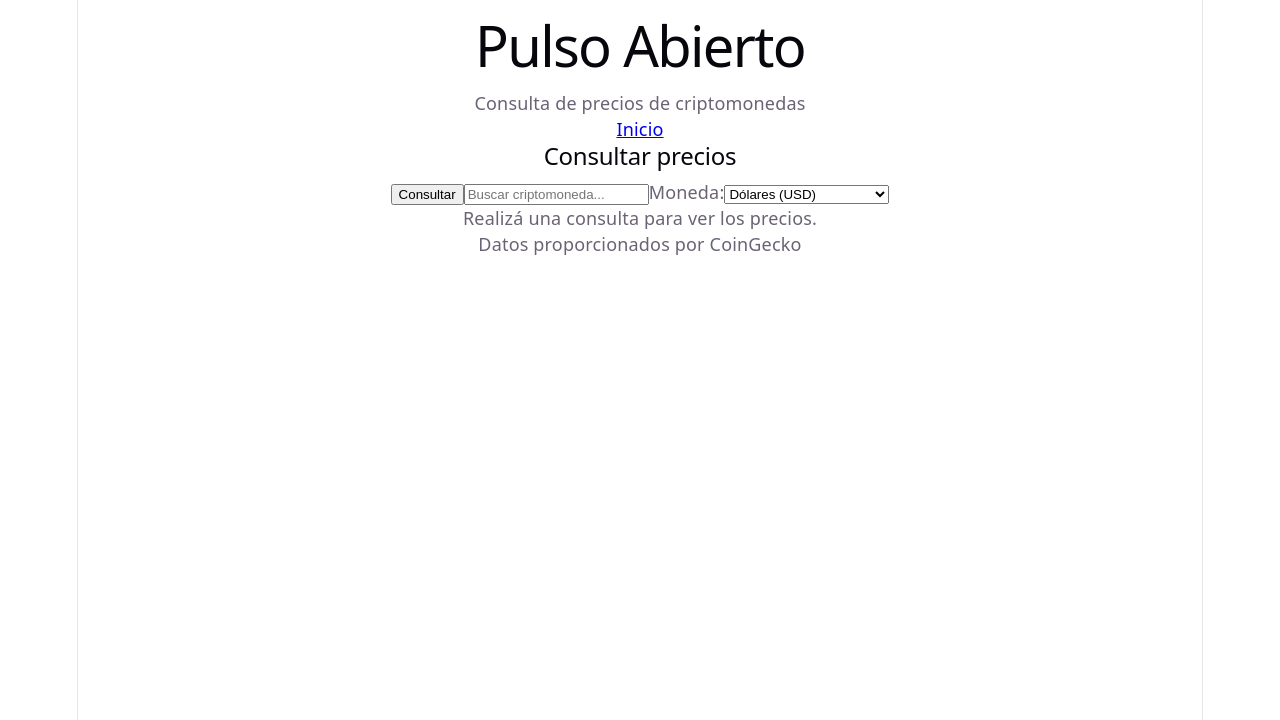
Scenario: Consulta de criptomonedas › muestra un error cuando falla la consulta
Type "bit" into the field with placeholder "Buscar criptomoneda..." at {"x": 556, "y": 194}, box [464, 184, 649, 205]
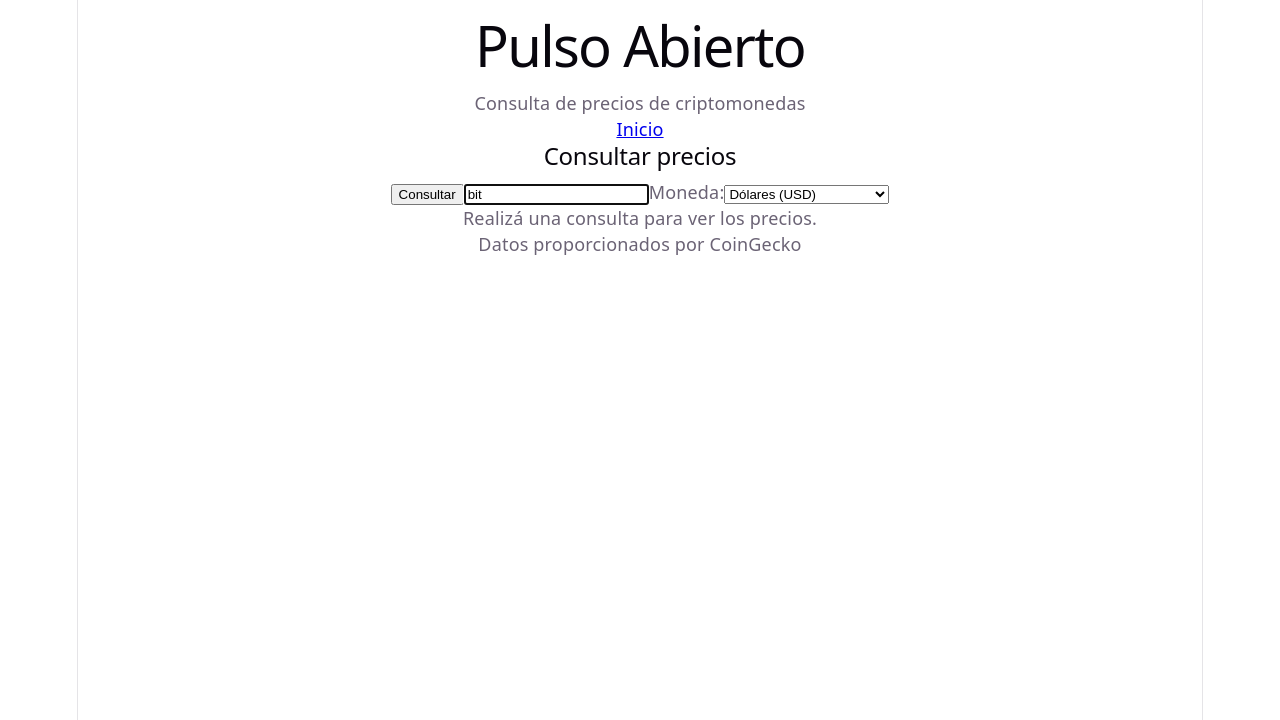
Click the button "Consultar" at {"x": 427, "y": 194}, box [391, 184, 464, 205]
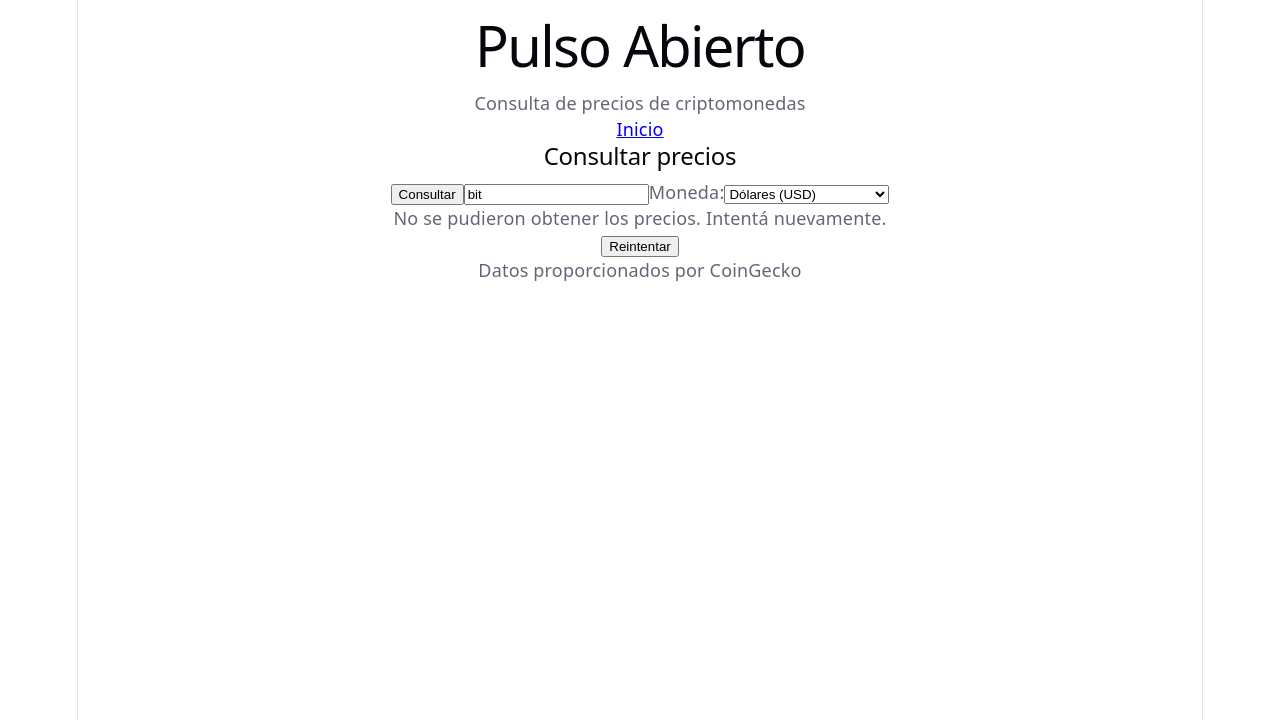
Expected: the message shows "No se pudieron obtener los precios", [394, 206, 886, 230]
